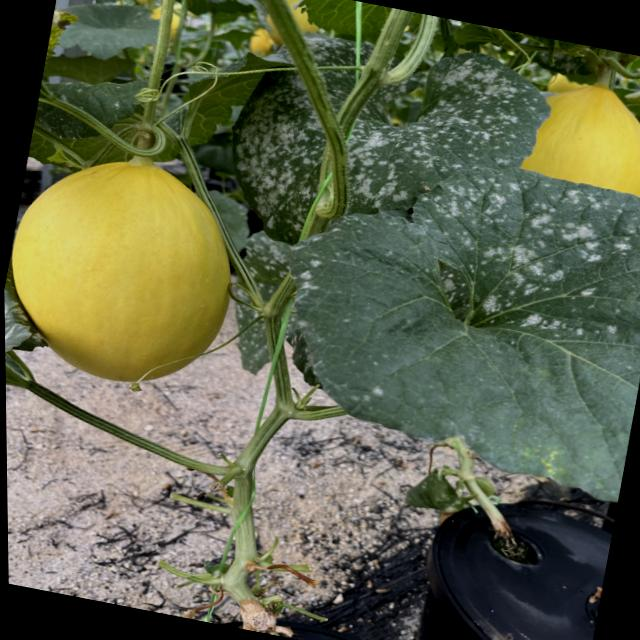CMV: (502, 31, 603, 68)
healthy: (47, 0, 166, 74), (285, 0, 409, 45)
powdery mildew: (243, 124, 640, 503), (208, 8, 563, 292), (210, 225, 312, 384)
